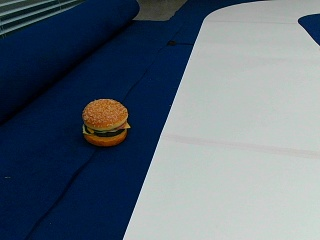burger: (80, 96, 129, 145)
